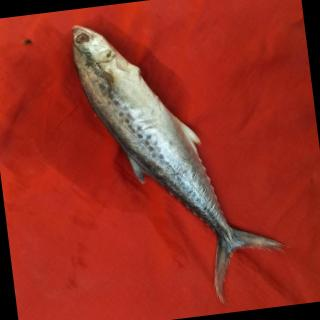Ikan: (63, 1, 291, 320)
